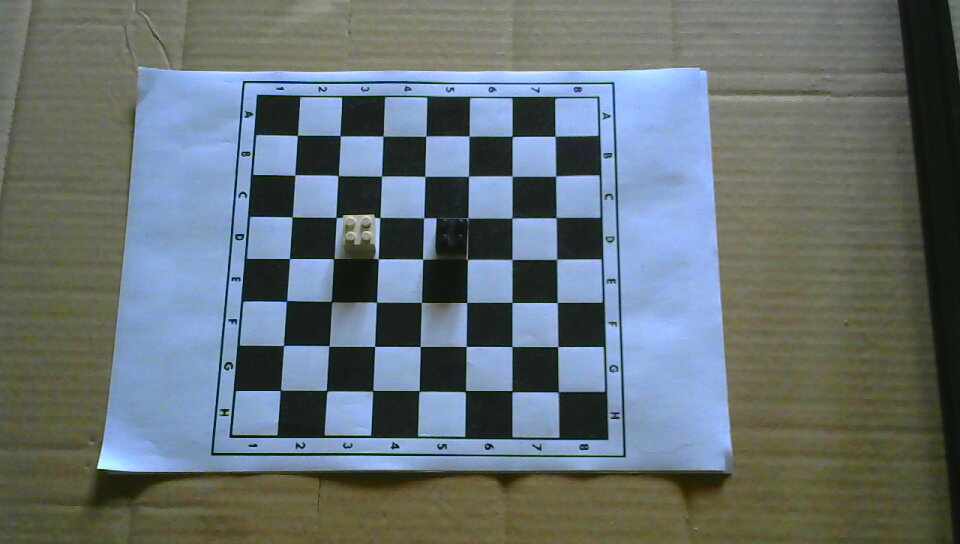bp: (434, 215, 469, 257)
wp: (341, 213, 376, 253)
